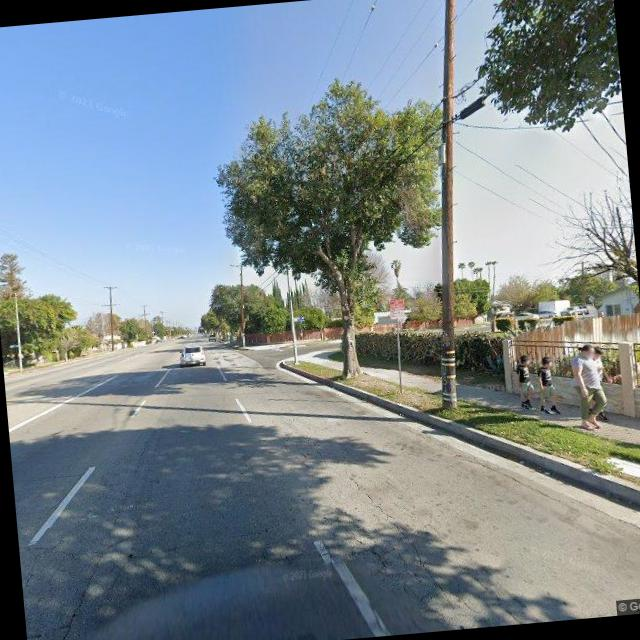crack: (338, 486, 512, 628)
